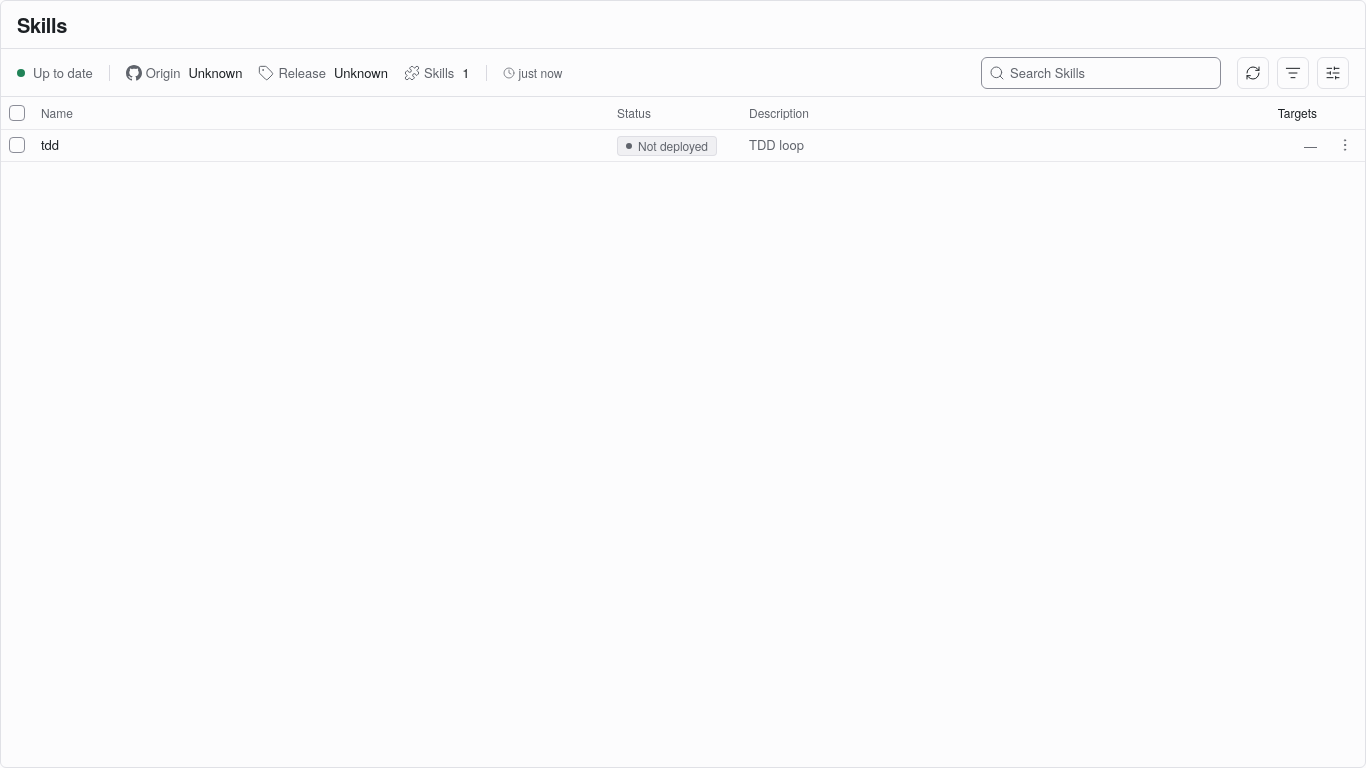
SkillsPanel › shows skeleton rows at once when Re-read Skills is pressed
This screenshot has width=1366, height=768.
Check: the text "tdd" is shown, box left=41, top=135, right=59, bottom=154
Click the button named "Re-read Skills" at (1253, 72), box left=1237, top=56, right=1269, bottom=88
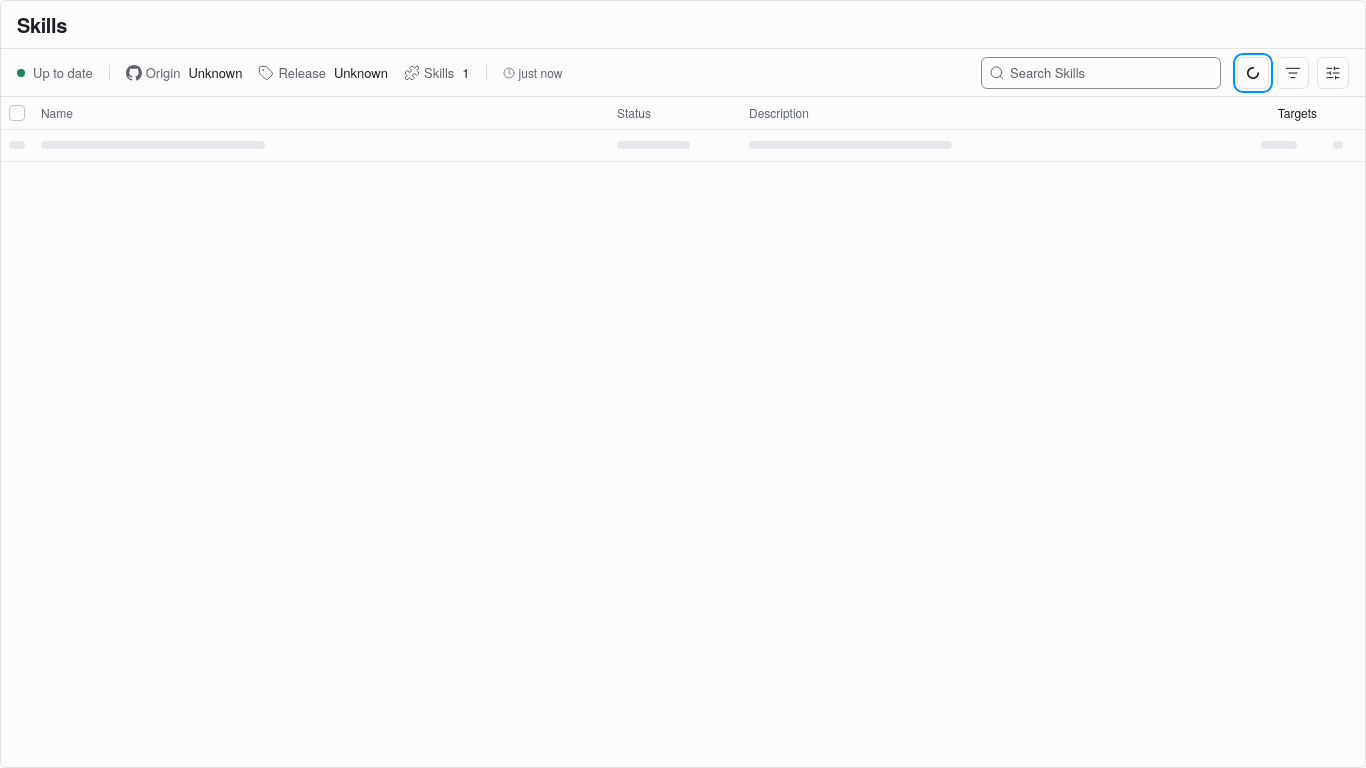
Check: the text "tdd" is gone
